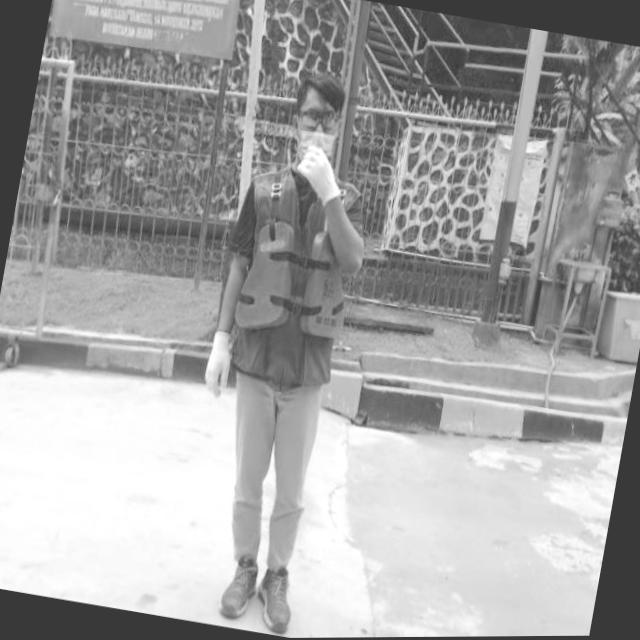goggles_on: (296, 108, 344, 134)
